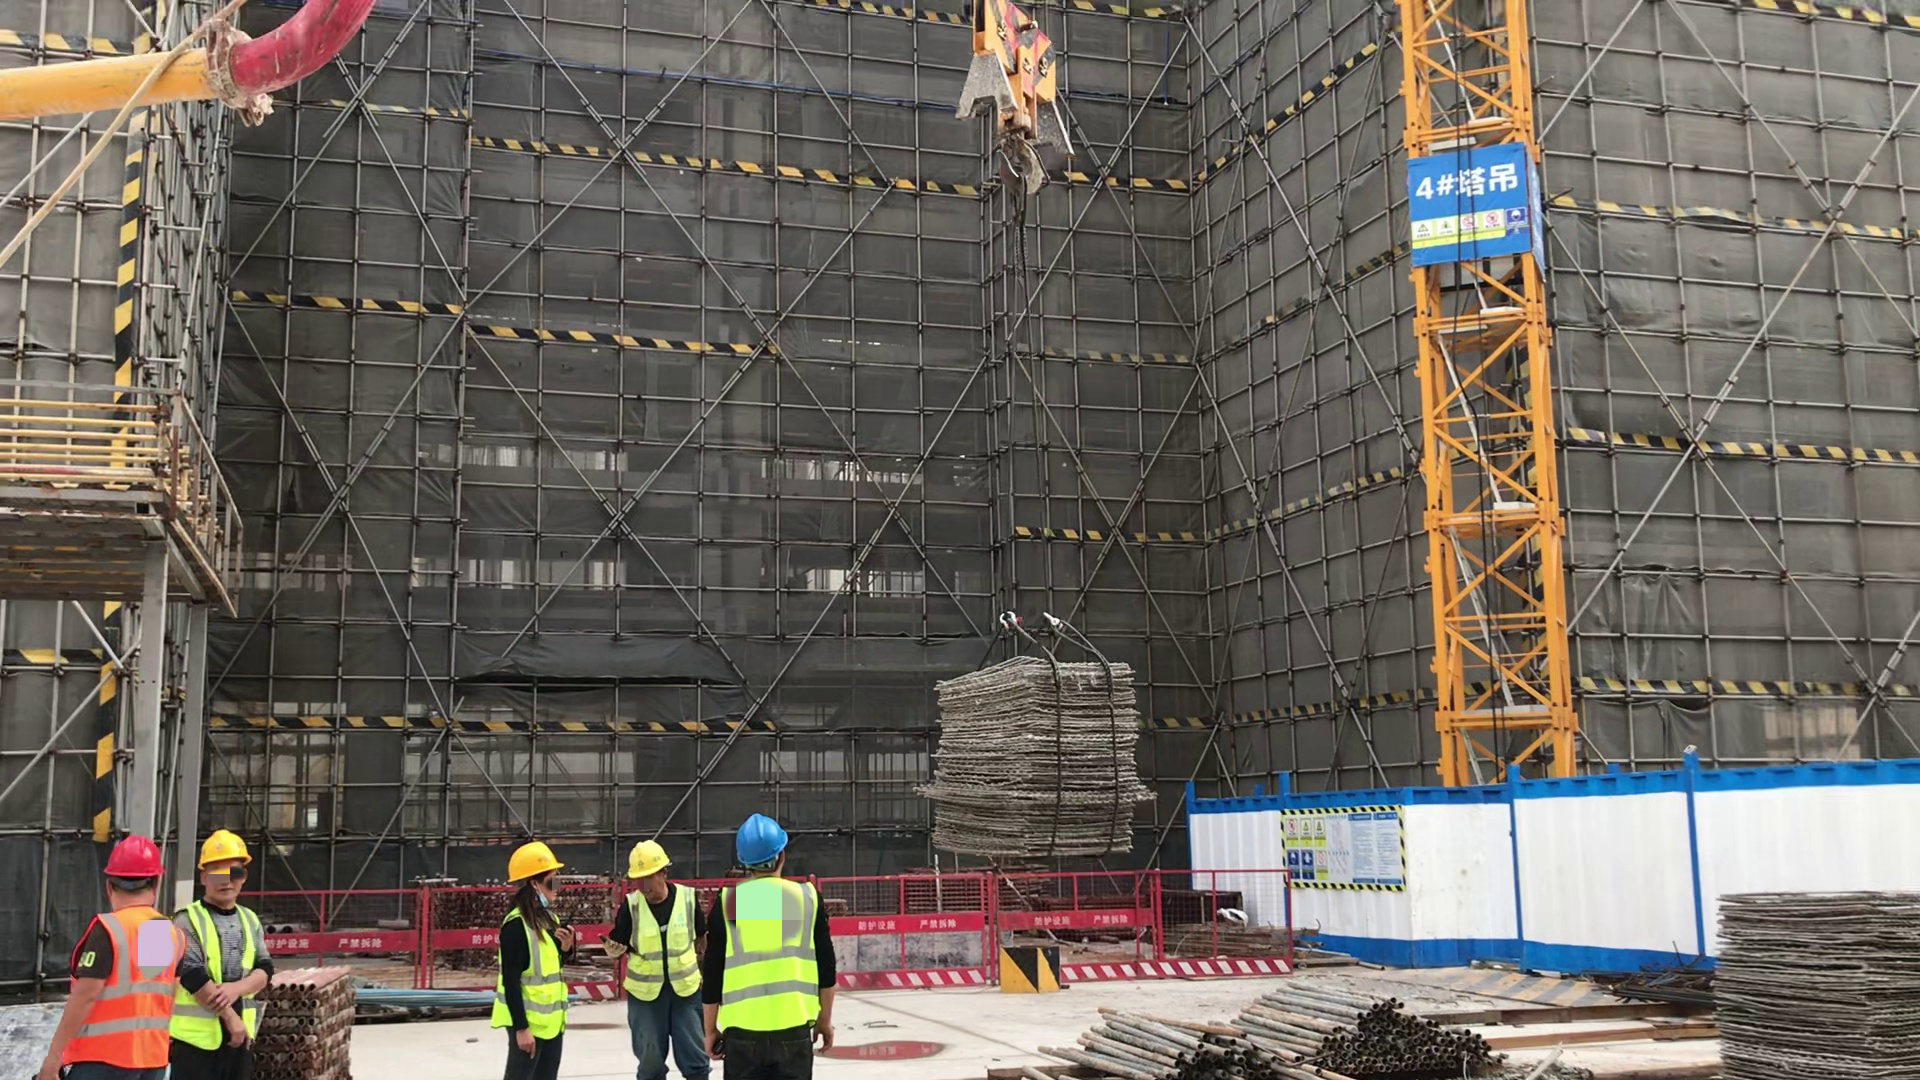helmet: (96, 834, 165, 880), (735, 814, 788, 871), (506, 842, 568, 882), (198, 830, 252, 869), (625, 840, 671, 880)
person: (41, 831, 189, 1080), (710, 813, 840, 1080), (182, 828, 279, 1080), (610, 834, 708, 1080), (492, 841, 582, 1080)
vest: (55, 905, 175, 1072), (718, 878, 821, 1035), (178, 893, 258, 1052), (491, 906, 574, 1042), (618, 882, 708, 1002)
